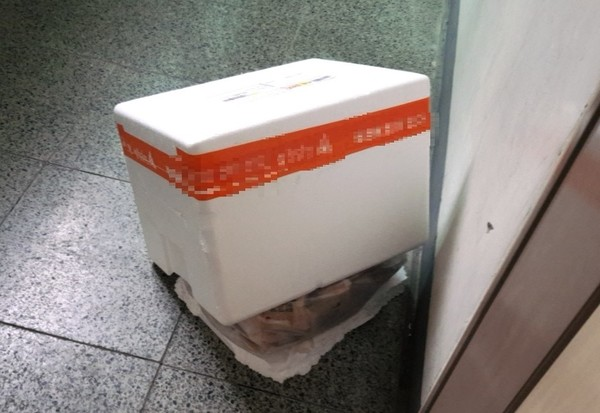damaged package: (158, 256, 421, 384)
